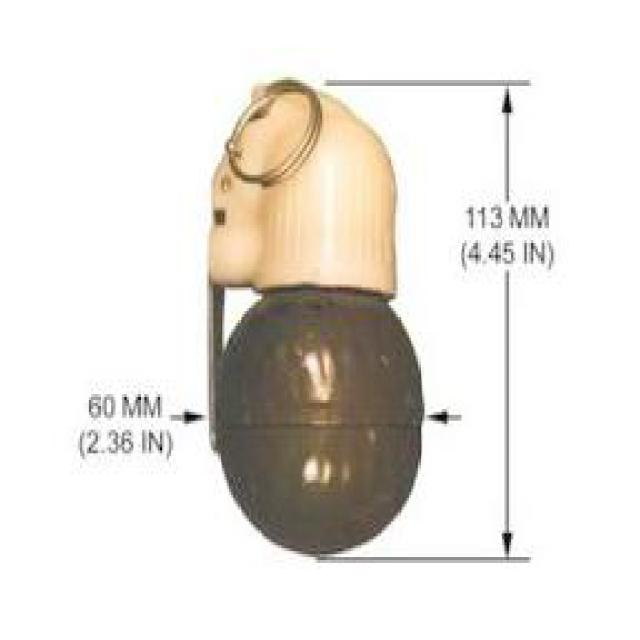grenade: (204, 77, 424, 554)
